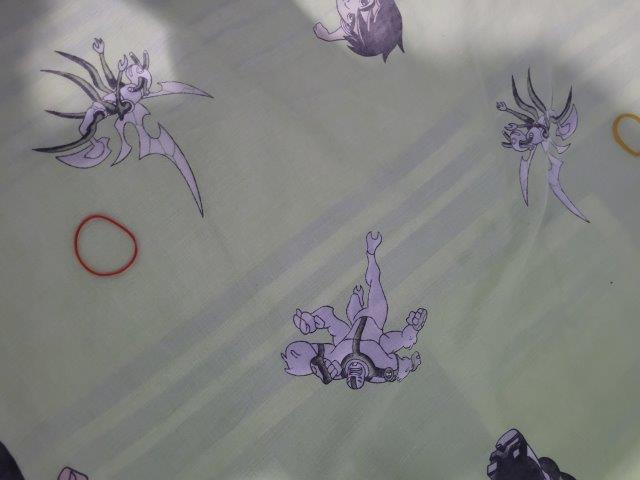karet: (72, 213, 139, 277), (611, 113, 640, 160)
